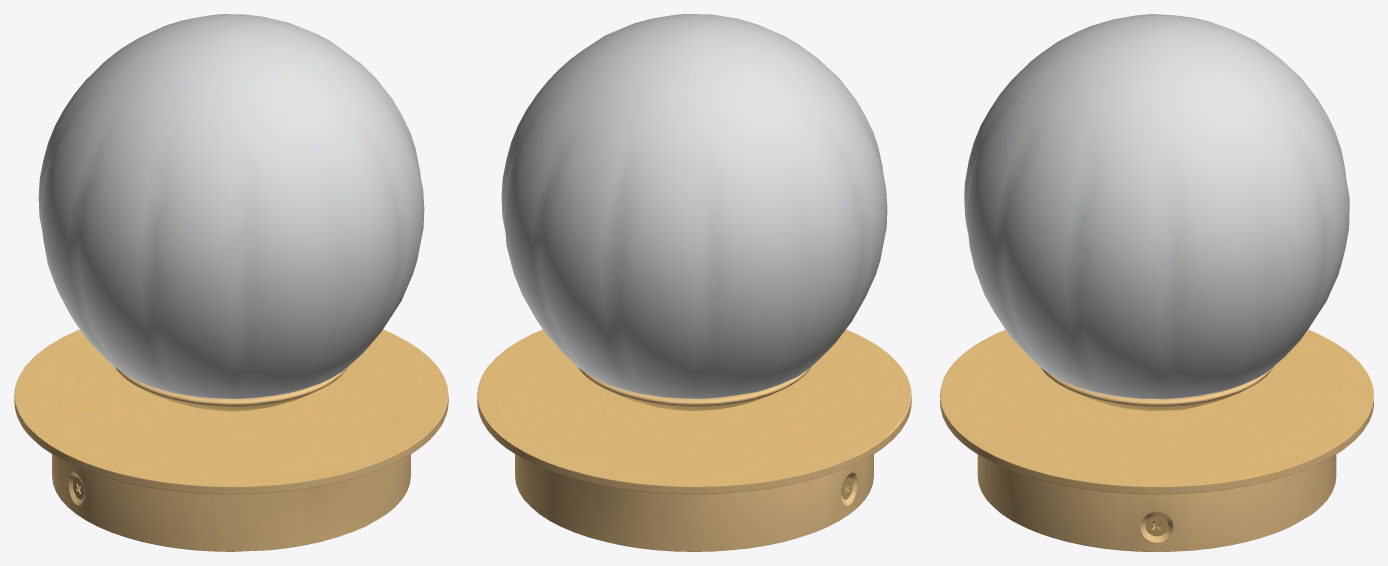
The model's file is akterspring_lampa_scienna_staa_instalacja_00614315.glb.
3 renders of one model, left to right at view 1: azimuth 30°, elevation 25°; view 2: azimuth 150°, elevation 25°; view 3: azimuth 270°, elevation 25°, orthographic.
Parts seen in each view (by area): view 1: akterspring_lampa_scienna_staa_instalacja_00614315; view 2: akterspring_lampa_scienna_staa_instalacja_00614315; view 3: akterspring_lampa_scienna_staa_instalacja_00614315.
Boxes of the visible parts, bbox=[...] form: akterspring_lampa_scienna_staa_instalacja_00614315: bbox=[14, 14, 448, 551]; akterspring_lampa_scienna_staa_instalacja_00614315: bbox=[477, 14, 911, 551]; akterspring_lampa_scienna_staa_instalacja_00614315: bbox=[940, 14, 1373, 551].
Size of the model in its own units: 0.1501 by 0.1702 by 0.15.
Materials: 1 (1 with a texture image).
